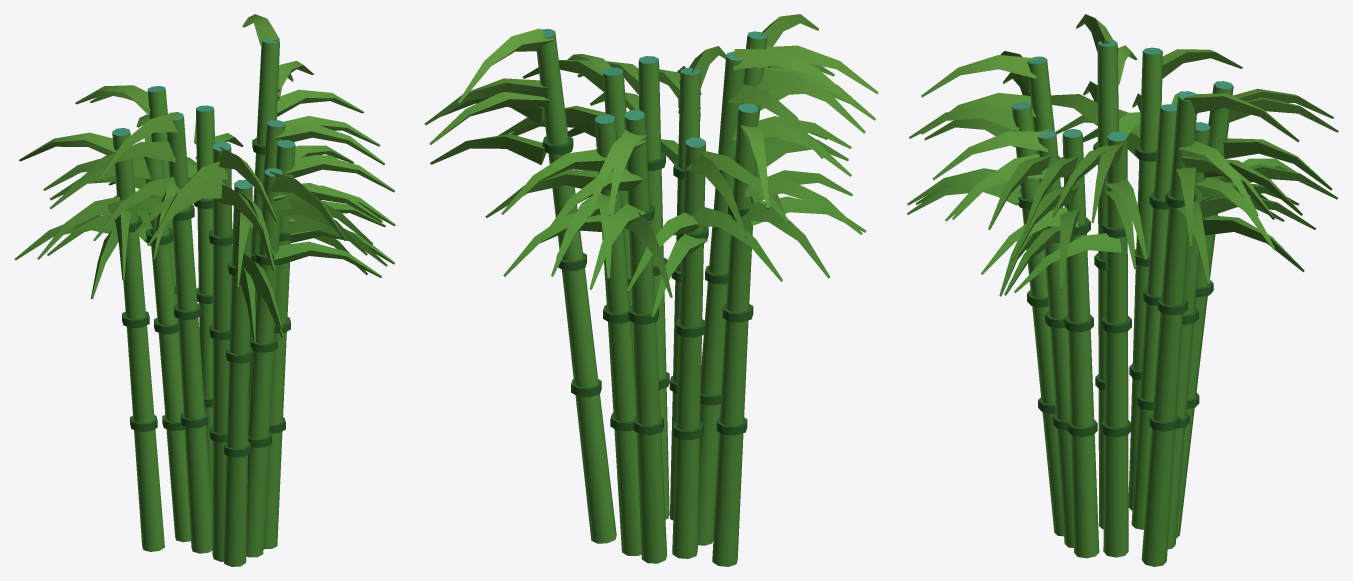
The model's file is BambooGrass.fbx.
3 renders of one model, left to right at view 1: azimuth 30°, elevation 25°; view 2: azimuth 150°, elevation 25°; view 3: azimuth 270°, elevation 25°, orthographic. The views are drawn at different scales.
Parts seen in each view (by area): view 1: BambooGrass; view 2: BambooGrass; view 3: BambooGrass.
Boxes of the visible parts, <box> form: BambooGrass: <box>14,14,395,566</box>; BambooGrass: <box>424,14,878,566</box>; BambooGrass: <box>907,14,1338,566</box>.
Bounding box in the file's own units: 1.2 × 1.51 × 1.2.
1 material, 1 textured.
